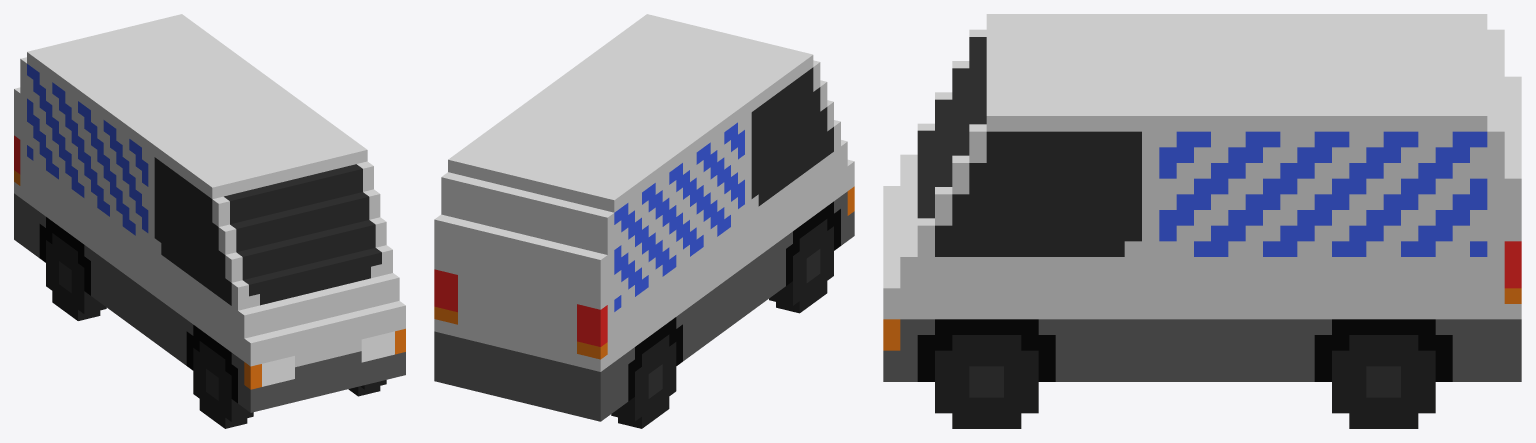
The model's file is van style2 white-blue.obj.
3 renders of one model, left to right at view 1: azimuth 30°, elevation 25°; view 2: azimuth 150°, elevation 25°; view 3: azimuth 270°, elevation 25°, orthographic. The views are drawn at different scales.
Size of the model in its own units: 1.4 by 2 by 3.7.
Materials: 1 (1 with a texture image).
